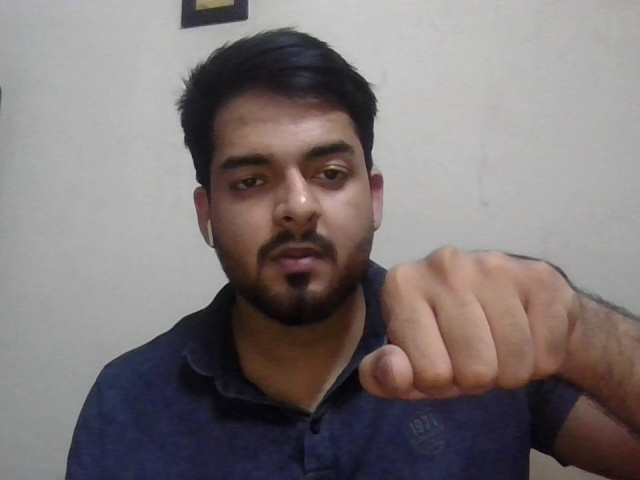yes: (358, 243, 576, 402)
